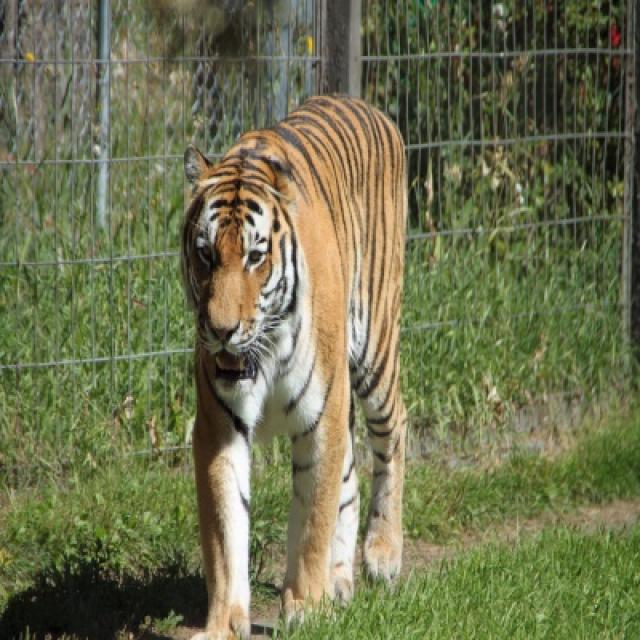Tiger: (181, 94, 406, 638)
